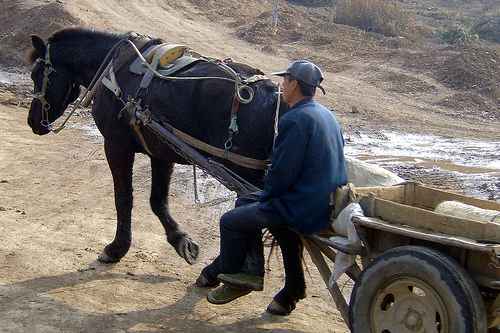horse: (27, 28, 280, 267)
